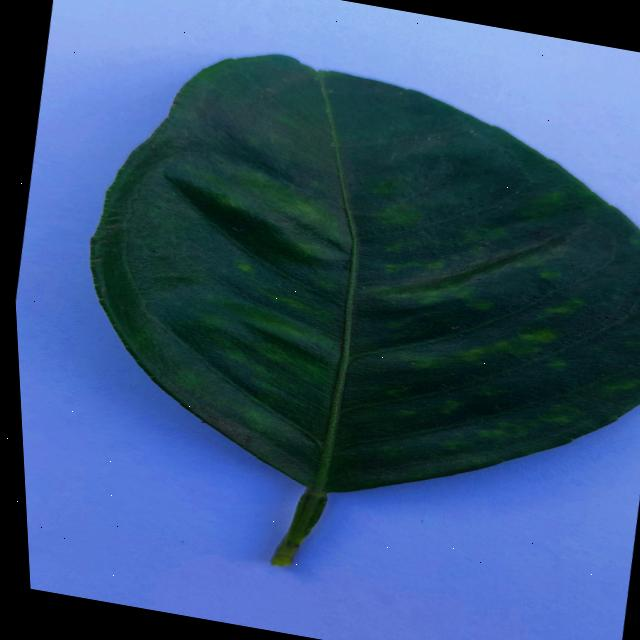greening: (91, 54, 640, 564)
